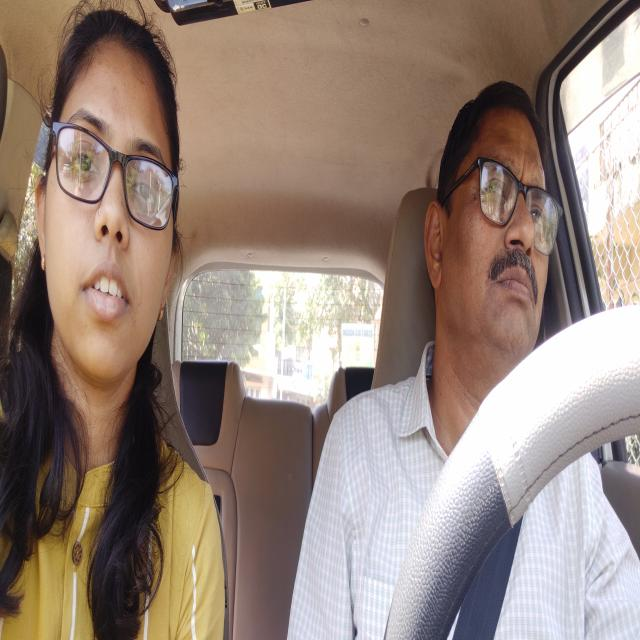person: (33, 7, 185, 406), (420, 81, 567, 376)
